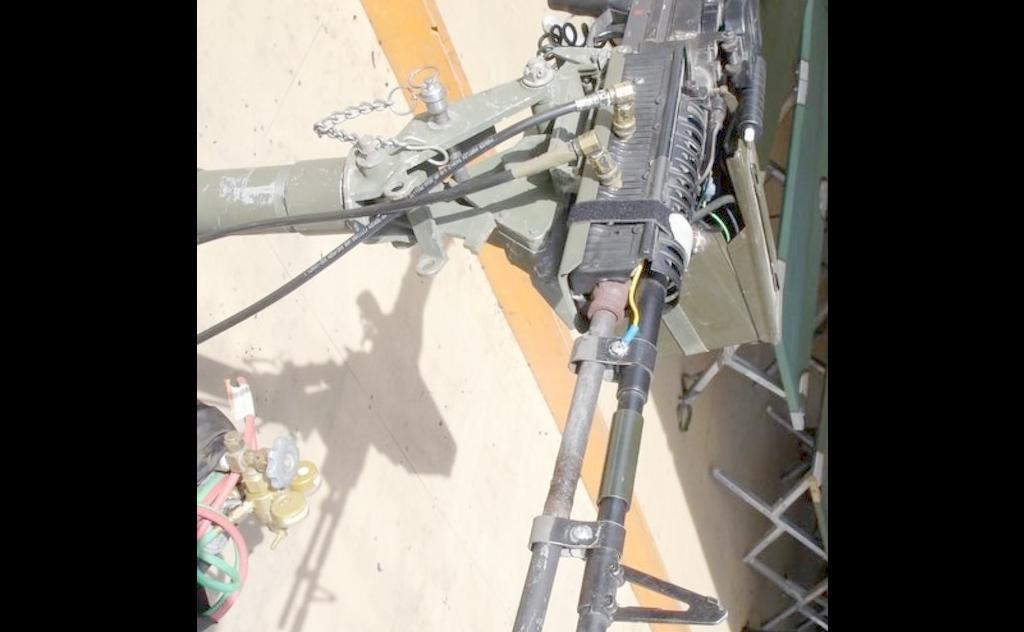gun: (296, 0, 783, 632)
